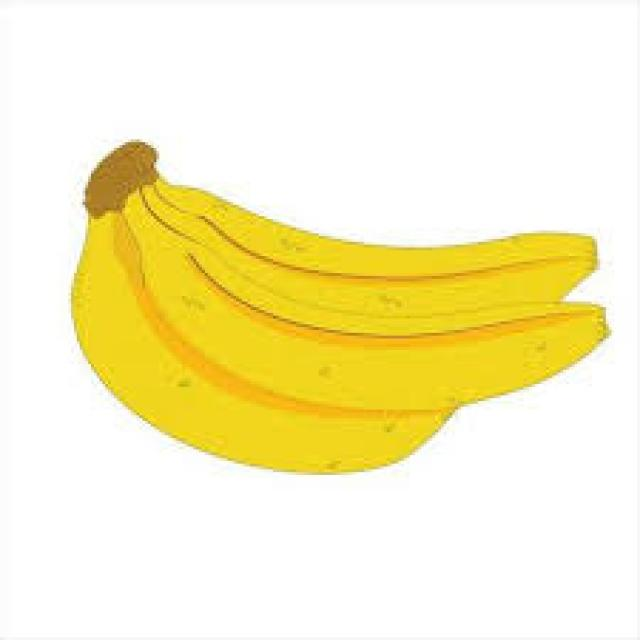Banana: (74, 221, 450, 471)
